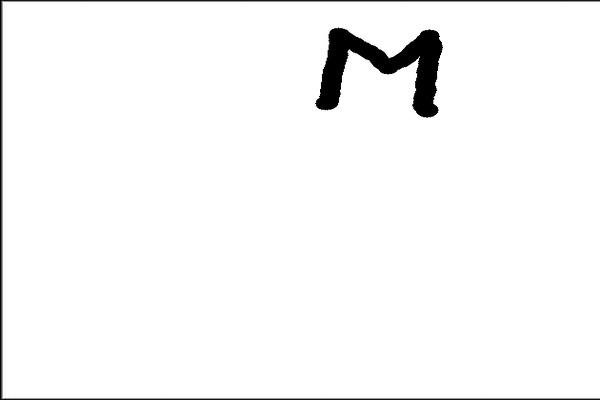M: (316, 20, 441, 116)
